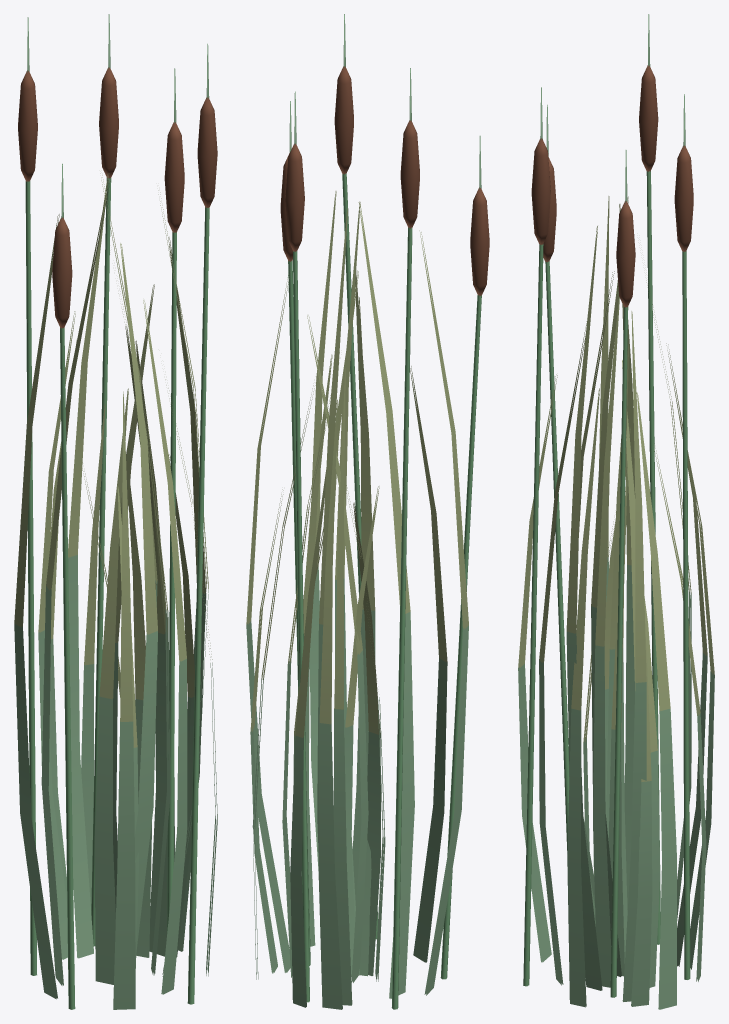
Rendered from flora_reeds_bulrush.gltf.
3 views of the same model, side by side, from view 1: azimuth 30°, elevation 25°; view 2: azimuth 150°, elevation 25°; view 3: azimuth 270°, elevation 25° (orthographic). The views are drawn at different scales.
Parts seen in each view (by area): view 1: flora_reeds_bulrush; view 2: flora_reeds_bulrush; view 3: flora_reeds_bulrush.
Boxes of the visible parts, left/top/right/bottom form: flora_reeds_bulrush: left=14, top=14, right=217, bottom=1009; flora_reeds_bulrush: left=246, top=14, right=489, bottom=1009; flora_reeds_bulrush: left=518, top=14, right=714, bottom=1009.
Size of what is drawn, in the model's own units: 0.4131 by 1.85 by 0.3561.
